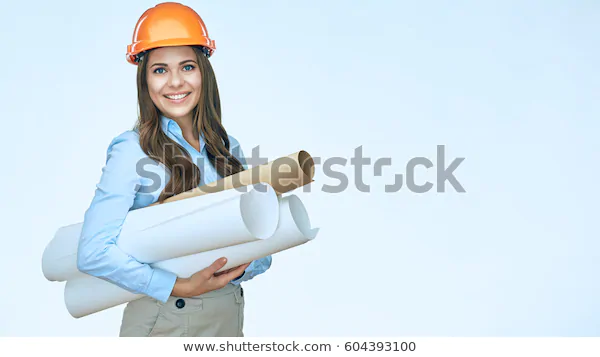Person_wearing_helmet: (118, 0, 240, 80)
